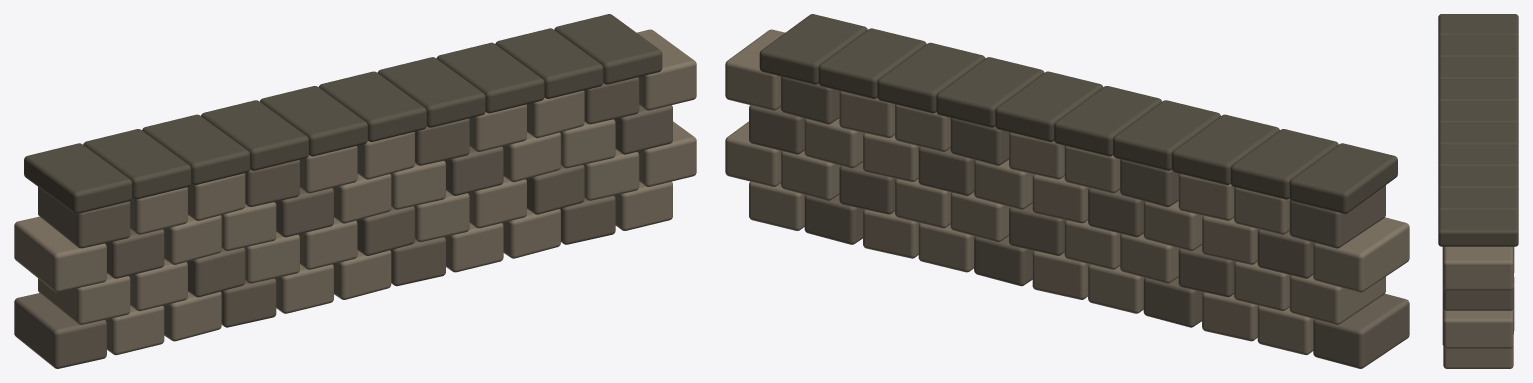
The model's file is stone-wall.glb.
3 views of the same model, side by side, from view 1: azimuth 30°, elevation 25°; view 2: azimuth 150°, elevation 25°; view 3: azimuth 270°, elevation 25° (orthographic). The views are drawn at different scales.
Parts seen in each view (by area): view 1: stone-wall-farm-stone, stone-wall-farm-stone-dark, stone-wall-farm-rock; view 2: stone-wall-farm-stone, stone-wall-farm-stone-dark, stone-wall-farm-rock; view 3: stone-wall-farm-stone-dark, stone-wall-farm-stone, stone-wall-farm-rock.
Boxes of the visible parts, x1=… form: stone-wall-farm-stone: x1=14, y1=29, x2=696, y2=355; stone-wall-farm-stone-dark: x1=24, y1=14, x2=662, y2=213; stone-wall-farm-rock: x1=14, y1=77, x2=672, y2=368; stone-wall-farm-stone: x1=725, y1=29, x2=1409, y2=355; stone-wall-farm-stone-dark: x1=759, y1=14, x2=1397, y2=213; stone-wall-farm-rock: x1=749, y1=76, x2=1409, y2=368; stone-wall-farm-stone-dark: x1=1438, y1=14, x2=1518, y2=246; stone-wall-farm-stone: x1=1442, y1=246, x2=1514, y2=368; stone-wall-farm-rock: x1=1442, y1=247, x2=1514, y2=345.
Size of the model in its own units: 5.45 by 1.43 by 0.78.
